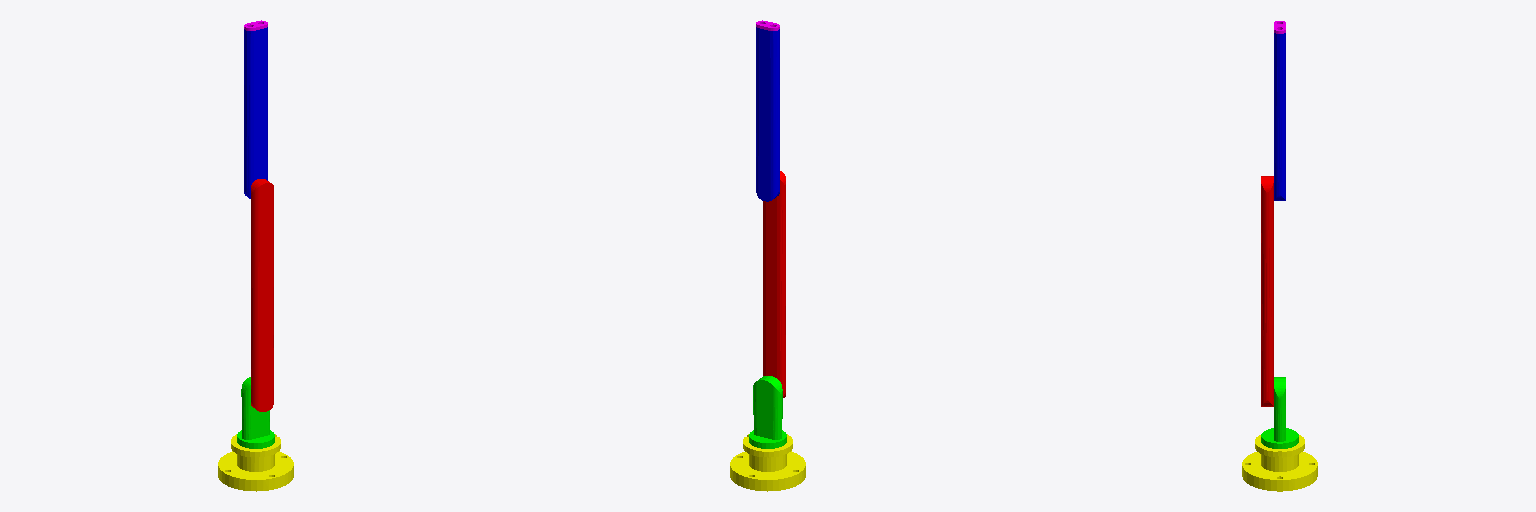
The robot description file, URDF, robot "Articulated_Robot":
<?xml version="1.0" encoding="utf-8"?>
<!-- This URDF was automatically created by SolidWorks to URDF Exporter! Originally created by [author] ([email redacted]) 
     Commit Version: 1.6.0-1-g15f4949  Build Version: 1.6.7594.29634
     For more information, please see http://wiki.ros.org/sw_urdf_exporter -->
<robot
  name="Articulated_Robot">
  <link
    name="Base">
    <inertial>
      <origin
        xyz="-0.000241876643301109 -6.10622663543836E-16 0.0969341006571471"
        rpy="0 0 0" />
      <mass
        value="38.0424280241323" />
      <inertia
        ixx="0.996427665526993"
        ixy="-7.73722966261546E-18"
        ixz="0.00163848669097482"
        iyy="0.994713501397636"
        iyz="2.95205184749133E-15"
        izz="1.43268743827097" />
    </inertial>
    <visual>
      <origin
        xyz="0 0 0"
        rpy="0 0 0" />
      <geometry>
        <mesh
          filename="package://Articulated_Robot/meshes/Base.STL" />
      </geometry>
      <material
        name="">
        <color
          rgba="1 1 0 1" />
      </material>
    </visual>
    <collision>
      <origin
        xyz="0 0 0"
        rpy="0 0 0" />
      <geometry>
        <mesh
          filename="package://Articulated_Robot/meshes/Base.STL" />
      </geometry>
    </collision>
  </link>
  <link
    name="Link_1">
    <inertial>
      <origin
        xyz="1.34712694721539E-07 -0.00139412573638886 0.431577138697582"
        rpy="0 0 0" />
      <mass
        value="21.1243682894282" />
      <inertia
        ixx="0.957844964275292"
        ixy="-4.6834736463498E-08"
        ixz="-3.39511365837944E-07"
        iyy="0.994116691119153"
        iyz="0.00824257555295901"
        izz="0.128724196326701" />
    </inertial>
    <visual>
      <origin
        xyz="0 0 0"
        rpy="0 0 0" />
      <geometry>
        <mesh
          filename="package://Articulated_Robot/meshes/Link_1.STL" />
      </geometry>
      <material
        name="">
        <color
          rgba="0 1 0 1" />
      </material>
    </visual>
    <collision>
      <origin
        xyz="0 0 0"
        rpy="0 0 0" />
      <geometry>
        <mesh
          filename="package://Articulated_Robot/meshes/Link_1.STL" />
      </geometry>
    </collision>
  </link>
  <joint
    name="J1"
    type="continuous">
    <origin
      xyz="0 0 0"
      rpy="0 0 0" />
    <parent
      link="Base" />
    <child
      link="Link_1" />
    <axis
      xyz="0 0 1" />
  </joint>
  <link
    name="Link_2">
    <inertial>
      <origin
        xyz="-2.78926416519276E-07 -0.0994409555192519 0.920141115293976"
        rpy="0 0 0" />
      <mass
        value="35.0853621411493" />
      <inertia
        ixx="11.3161350422394"
        ixy="-1.55047251608056E-06"
        ixz="-8.82504373391087E-06"
        iyy="11.3837250958261"
        iyz="-0.0349327721881474"
        izz="0.12376353988556" />
    </inertial>
    <visual>
      <origin
        xyz="0 0 0"
        rpy="0 0 0" />
      <geometry>
        <mesh
          filename="package://Articulated_Robot/meshes/Link_2.STL" />
      </geometry>
      <material
        name="">
        <color
          rgba="1 0 0 1" />
      </material>
    </visual>
    <collision>
      <origin
        xyz="0 0 0"
        rpy="0 0 0" />
      <geometry>
        <mesh
          filename="package://Articulated_Robot/meshes/Link_2.STL" />
      </geometry>
    </collision>
  </link>
  <joint
    name="J2"
    type="continuous">
    <origin
      xyz="0 0 0.71145"
      rpy="0 0 0" />
    <parent
      link="Link_1" />
    <child
      link="Link_2" />
    <axis
      xyz="0 -1 0" />
  </joint>
  <link
    name="Link_3">
    <inertial>
      <origin
        xyz="1.58816629458602E-07 0.000377300916462264 0.665802041181273"
        rpy="0 0 0" />
      <mass
        value="25.9784378302758" />
      <inertia
        ixx="4.64792902173367"
        ixy="-1.09450409206981E-06"
        ixz="2.48485732722899E-06"
        iyy="4.70068581201351"
        iyz="0.006527354765011"
        izz="0.0914426967821872" />
    </inertial>
    <visual>
      <origin
        xyz="0 0 0"
        rpy="0 0 0" />
      <geometry>
        <mesh
          filename="package://Articulated_Robot/meshes/Link_3.STL" />
      </geometry>
      <material
        name="">
        <color
          rgba="0 0 1 1" />
      </material>
    </visual>
    <collision>
      <origin
        xyz="0 0 0"
        rpy="0 0 0" />
      <geometry>
        <mesh
          filename="package://Articulated_Robot/meshes/Link_3.STL" />
      </geometry>
    </collision>
  </link>
  <joint
    name="J3"
    type="continuous">
    <origin
      xyz="0 0 1.7995"
      rpy="0 0 0" />
    <parent
      link="Link_2" />
    <child
      link="Link_3" />
    <axis
      xyz="0 1 0" />
  </joint>
  <link
    name="End_Effector">
    <inertial>
      <origin
        xyz="-4.9960036108132E-16 -2.27595720048157E-15 -0.0125000000000006"
        rpy="0 0 0" />
      <mass
        value="0.34817477042468" />
      <inertia
        ixx="0.000333846091111613"
        ixy="-2.45071247059807E-20"
        ixz="-5.07758786819072E-20"
        iyy="0.000995949683839979"
        iyz="-2.71698290588505E-21"
        izz="0.00129352756969902" />
    </inertial>
    <visual>
      <origin
        xyz="0 0 0"
        rpy="0 0 0" />
      <geometry>
        <mesh
          filename="package://Articulated_Robot/meshes/End_Effector.STL" />
      </geometry>
      <material
        name="">
        <color
          rgba="1 0 1 1" />
      </material>
    </visual>
    <collision>
      <origin
        xyz="0 0 0"
        rpy="0 0 0" />
      <geometry>
        <mesh
          filename="package://Articulated_Robot/meshes/End_Effector.STL" />
      </geometry>
    </collision>
  </link>
  <joint
    name="F1"
    type="fixed">
    <origin
      xyz="0 0 1.425"
      rpy="0 0 0" />
    <parent
      link="Link_3" />
    <child
      link="End_Effector" />
    <axis
      xyz="0 0 0" />
  </joint>
</robot>

--- Facts derived from the render (not from the file) ---
Views: 3 orthographic renders of the robot side by side, from view 1: azimuth 30°, elevation 25°; view 2: azimuth 150°, elevation 25°; view 3: azimuth 270°, elevation 25°.
Robot: Articulated_Robot — 5 links, 4 joints (3 continuous, 1 fixed); root link Base; default pose: every joint at zero.
Visible links, largest first — view 1: Link_2, Link_3, Base, Link_1; view 2: Link_2, Link_3, Base, Link_1; view 3: Link_2, Base, Link_3, Link_1.
Link boxes in pixels (box(x1,y1,x2,y2)): Link_2: box(251, 179, 273, 411); Link_3: box(244, 27, 267, 198); Base: box(218, 434, 293, 491); Link_1: box(237, 377, 274, 448); Link_2: box(763, 171, 785, 397); Link_3: box(756, 27, 779, 201); Base: box(730, 434, 805, 491); Link_1: box(749, 376, 786, 448); Link_2: box(1261, 176, 1273, 406); Base: box(1242, 435, 1317, 491); Link_3: box(1274, 33, 1285, 200); Link_1: box(1261, 377, 1298, 448).
Size in the robot's own frame: 0.598 by 0.6 by 3.94 metres.
Meshes: 5 distinct files referenced, 5 mesh visuals loaded (5 binary STL).